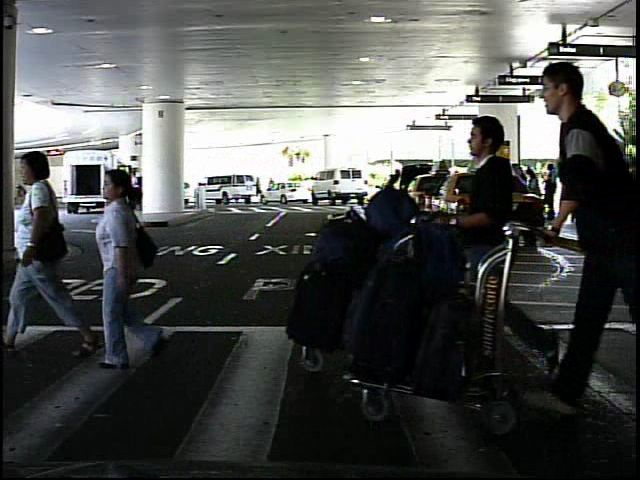person: (431, 105, 542, 394), (14, 137, 104, 358), (78, 158, 162, 382), (106, 171, 124, 222), (583, 171, 602, 218)
